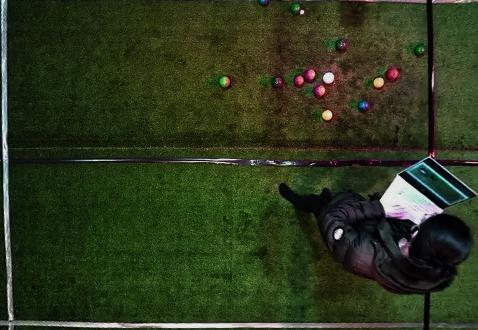blue: (358, 101, 369, 111), (259, 1, 269, 6)
green: (414, 44, 426, 56), (219, 76, 231, 88), (336, 39, 348, 50), (272, 76, 282, 88), (291, 4, 301, 14)
red: (386, 68, 400, 82), (313, 85, 325, 97), (323, 72, 334, 84), (304, 68, 315, 80), (294, 75, 305, 86)
vline: (428, 1, 477, 156), (0, 1, 17, 329), (423, 293, 478, 329)
white: (300, 10, 304, 15)
yellow: (373, 77, 385, 88), (322, 110, 333, 121)
